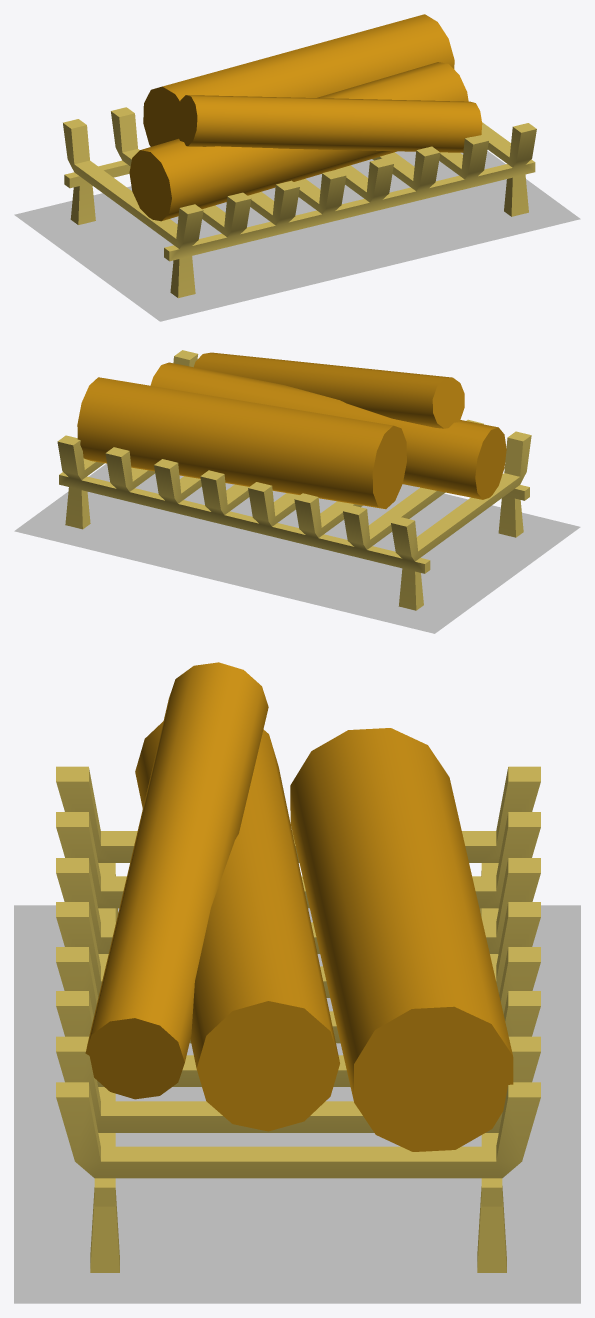
The model's file is troncos.fbx.
3 renders of one model, top to bottom at view 1: azimuth 30°, elevation 25°; view 2: azimuth 150°, elevation 25°; view 3: azimuth 270°, elevation 25°, orthographic. The views are drawn at different scales.
Visible parts, largest first — view 1: troncos; view 2: troncos; view 3: troncos.
Part boxes in pixels (<box>): troncos: <box>14,14,580,321</box>; troncos: <box>14,350,580,633</box>; troncos: <box>14,662,580,1303</box>.
Bounding box in the file's own units: 135 × 51 × 81.32.
